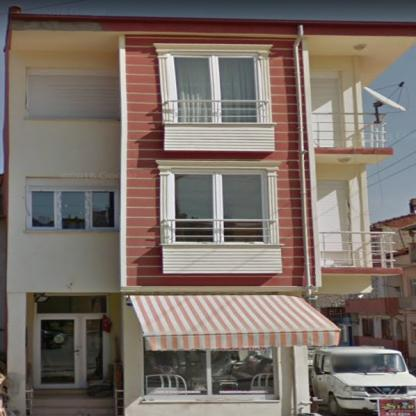door: (34, 315, 110, 388)
window: (170, 170, 268, 243), (142, 348, 279, 398), (167, 54, 263, 122), (26, 180, 118, 230), (27, 70, 116, 118), (318, 181, 351, 250), (312, 72, 342, 146), (35, 294, 108, 315), (382, 319, 392, 339), (408, 278, 416, 298), (364, 319, 372, 337), (411, 322, 416, 343)
